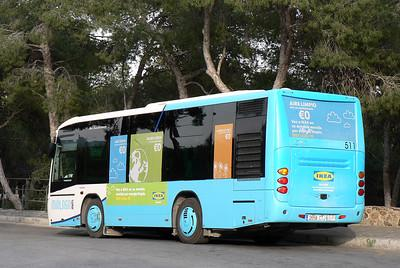bus: (43, 88, 372, 249)
